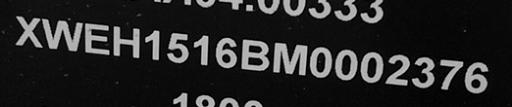letter: (41, 17, 83, 53), (271, 39, 307, 76), (110, 24, 142, 59), (14, 14, 42, 50), (239, 39, 269, 72), (384, 53, 410, 88), (438, 57, 464, 92), (464, 60, 490, 94), (84, 22, 110, 55), (164, 32, 190, 65), (358, 51, 384, 84), (214, 35, 238, 70), (309, 46, 333, 79), (334, 48, 358, 81), (412, 55, 436, 88), (144, 27, 162, 62), (192, 34, 210, 67)
